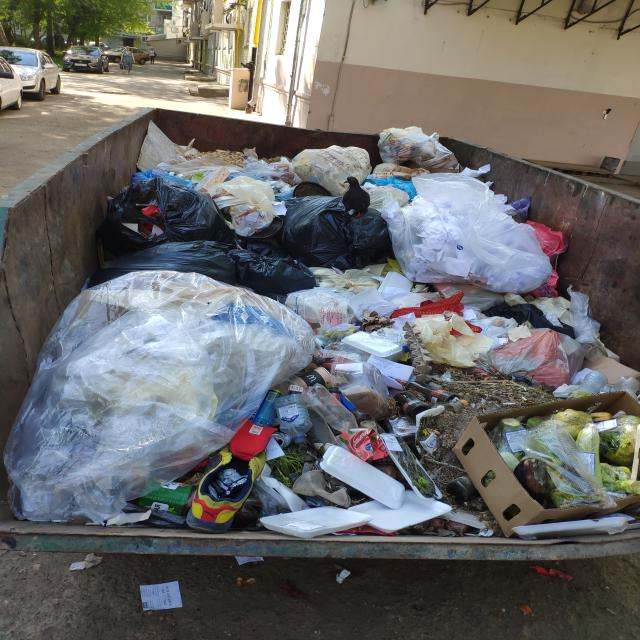lixo domiciliar: (9, 273, 314, 517), (344, 297, 623, 416), (367, 165, 555, 295), (458, 404, 640, 521), (185, 294, 329, 435), (285, 435, 452, 533), (92, 234, 316, 292), (110, 176, 236, 248), (183, 442, 275, 530), (284, 196, 390, 264), (155, 144, 293, 192), (277, 259, 384, 319), (372, 123, 463, 175), (293, 145, 377, 190), (233, 391, 281, 453), (120, 477, 200, 513)
